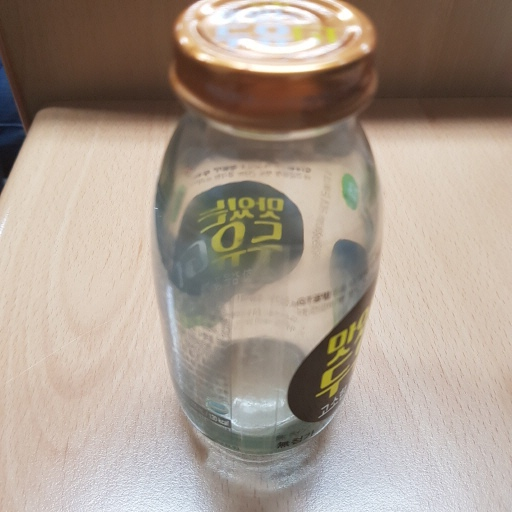Glass_4: (143, 1, 395, 493)
